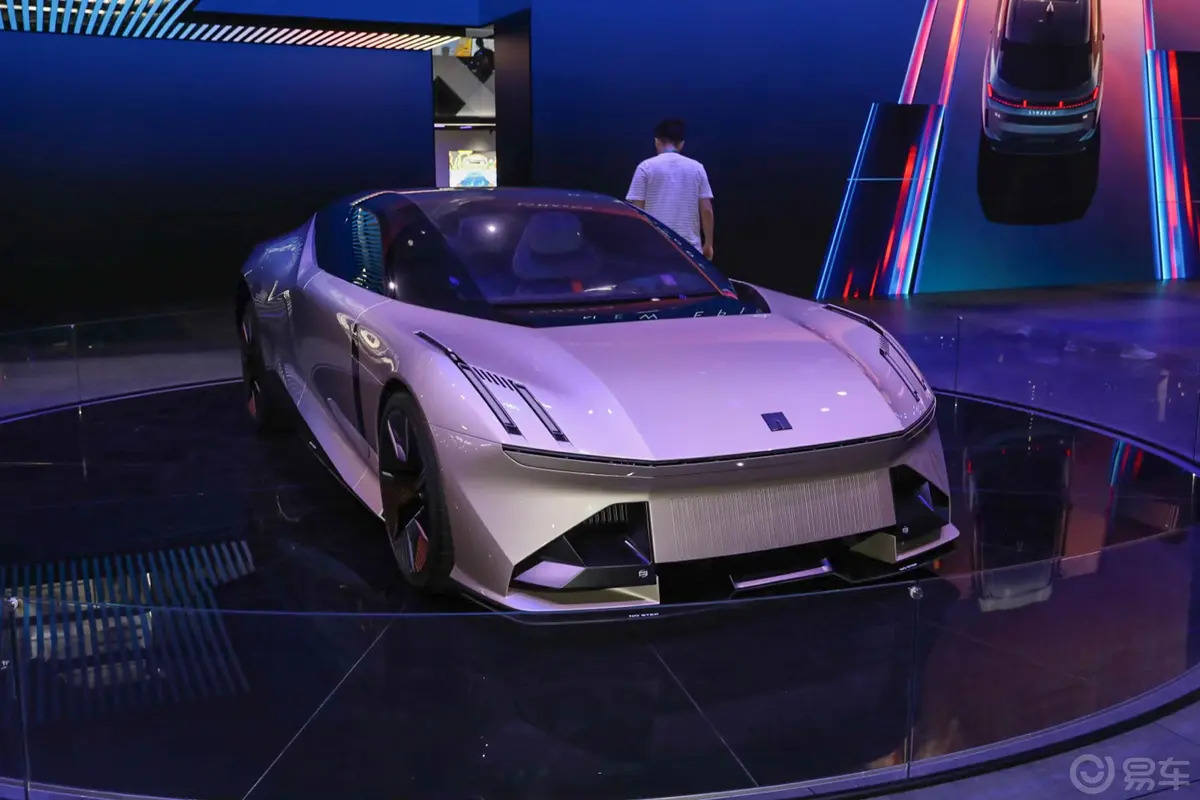LINK&CO: (762, 411, 791, 431)
